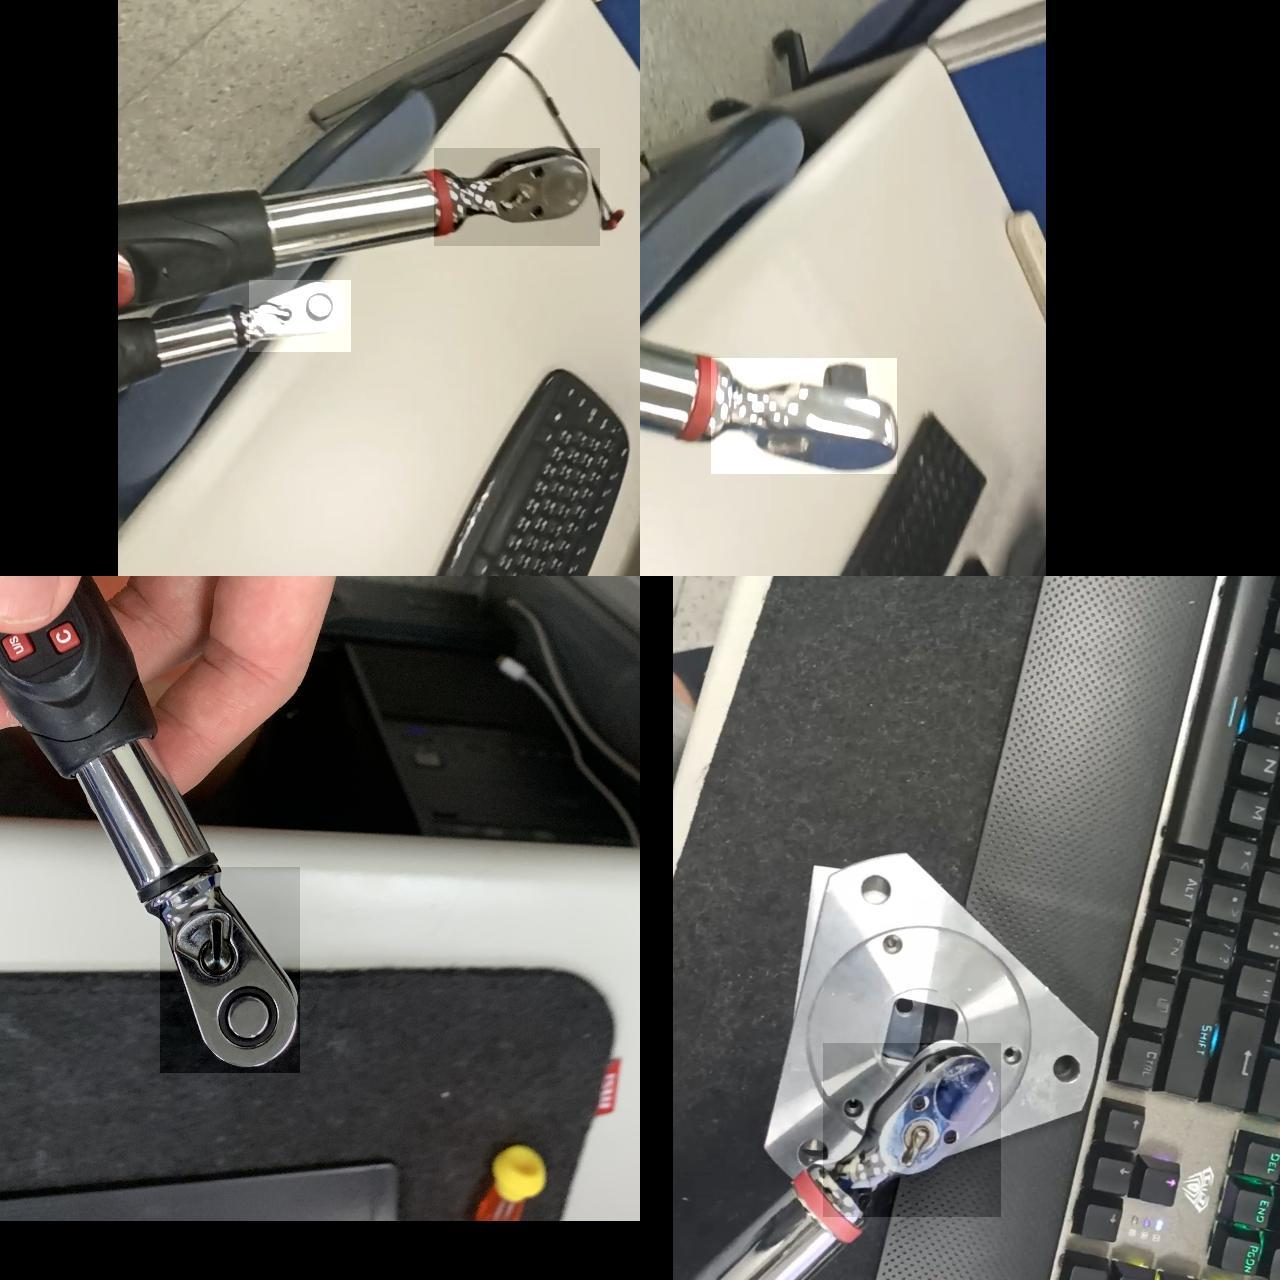Tool: (822, 1043, 1000, 1217), (159, 867, 299, 1073), (710, 358, 896, 474), (433, 148, 599, 246), (248, 280, 350, 352)
